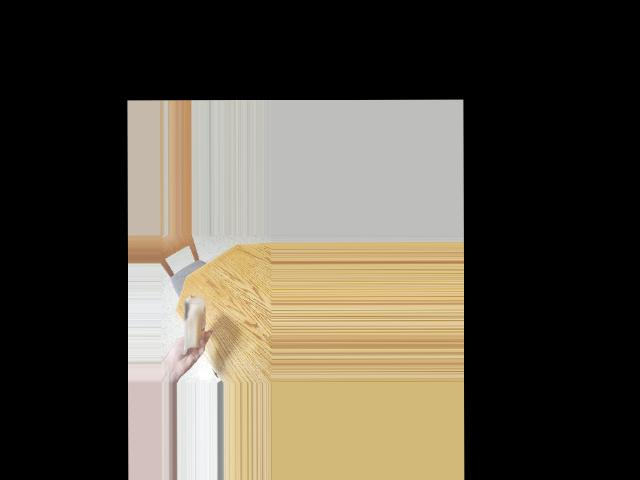cheese: (172, 299, 207, 351)
